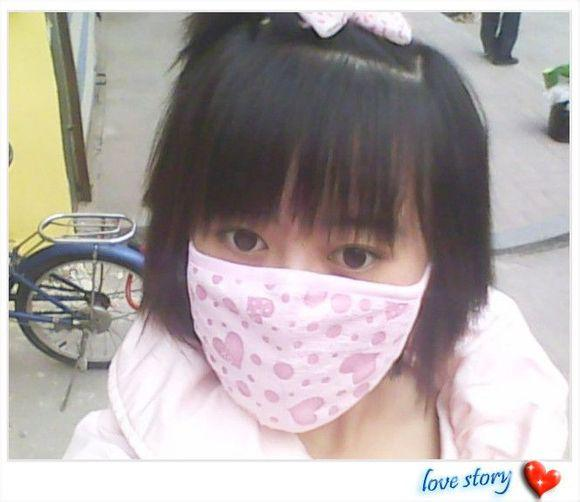OK: (193, 184, 422, 427)
